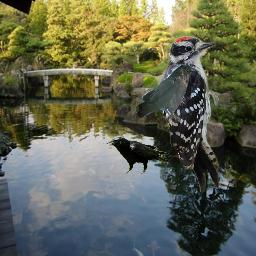Crow: (136, 64, 199, 122), (105, 137, 169, 174)
Woodpecker: (157, 36, 219, 192)
